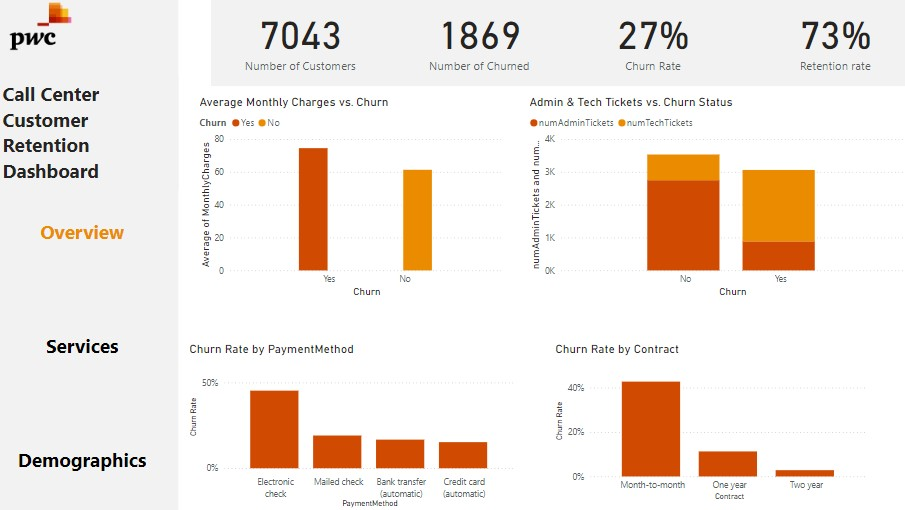

This screenshot's page, from the dashboard's own definition file:
{"tool":"powerbi","page":{"name":"Overview","canvas":[1280,720],"ordinal":0},"visuals":[{"type":"shape","box":[0,0,252.7,720.3],"z":0},{"type":"image","box":[0,0,116.9,76.9],"z":1000},{"type":"textbox","box":[0,109.5,252.7,158.1],"z":2000},{"type":"shape","box":[299,0,981,122.6],"z":3000},{"type":"card","fields":{"Values":["Count(01 Churn-Dataset.customerID)"]},"box":[335.4,0,178.5,110.8],"z":4000},{"type":"card","fields":{"Values":["01 Churn-Dataset.Churn Rate"]},"box":[832.9,0,177.9,110.1],"z":5000},{"type":"card","fields":{"Values":["01 Churn-Dataset.Reetention rate"]},"box":[1089.2,0,178.5,110.8],"z":6000},{"type":"card","fields":{"Values":["01 Churn-Dataset.Number of Churned"]},"box":[586.7,0,178.5,110.8],"z":7000},{"type":"clusteredColumnChart","fields":{"Y":["01 Churn-Dataset.Churn Rate"],"Category":["01 Churn-Dataset.PaymentMethod"]},"box":[263.5,482.4,467.6,237.8],"z":8000},{"type":"clusteredColumnChart","fields":{"Y":["01 Churn-Dataset.Churn Rate"],"Category":["01 Churn-Dataset.Contract"]},"box":[778.4,482.4,450,228.4],"z":9000},{"type":"actionButton","box":[16.9,280.9,200.5,94.6],"z":10000},{"type":"actionButton","box":[16.9,441.1,200.5,94.6],"z":11000},{"type":"actionButton","box":[17.6,601.4,200,94.6],"z":12000},{"type":"clusteredColumnChart","title":"Average Monthly Charges vs. Churn","fields":{"Y":["Avg(01 Churn-Dataset.MonthlyCharges)"],"Category":["01 Churn-Dataset.Churn"],"Series":["01 Churn-Dataset.Churn"]},"box":[278,134.9,437.7,290.4],"z":13000},{"type":"columnChart","title":"Admin & Tech Tickets vs. Churn Status","fields":{"Category":["01 Churn-Dataset.Churn"],"Y":["Sum(01 Churn-Dataset.numAdminTickets)","Sum(01 Churn-Dataset.numTechTickets)"]},"box":[741.8,134.9,538.2,290.4],"z":14000}]}

Visuals, with their boxes in screenshot pixels (x1, y1, x2, y2), scaled from the page's 1280x720 canvas onto the 905x510 screenshot:
shape: region(0, 0, 179, 509)
image: region(0, 0, 83, 54)
textbox: region(0, 78, 179, 190)
shape: region(211, 0, 904, 87)
card - Count(01 Churn-Dataset.customerID): region(237, 0, 363, 78)
card - 01 Churn-Dataset.Churn Rate: region(589, 0, 715, 78)
card - 01 Churn-Dataset.Reetention rate: region(770, 0, 896, 78)
card - 01 Churn-Dataset.Number of Churned: region(415, 0, 541, 78)
clusteredColumnChart - 01 Churn-Dataset.Churn Rate x 01 Churn-Dataset.PaymentMethod: region(186, 342, 517, 509)
clusteredColumnChart - 01 Churn-Dataset.Churn Rate x 01 Churn-Dataset.Contract: region(550, 342, 869, 503)
actionButton: region(12, 199, 154, 266)
actionButton: region(12, 312, 154, 379)
actionButton: region(12, 426, 154, 493)
"Average Monthly Charges vs. Churn" clusteredColumnChart: region(197, 96, 506, 301)
"Admin & Tech Tickets vs. Churn Status" columnChart: region(524, 96, 904, 301)
